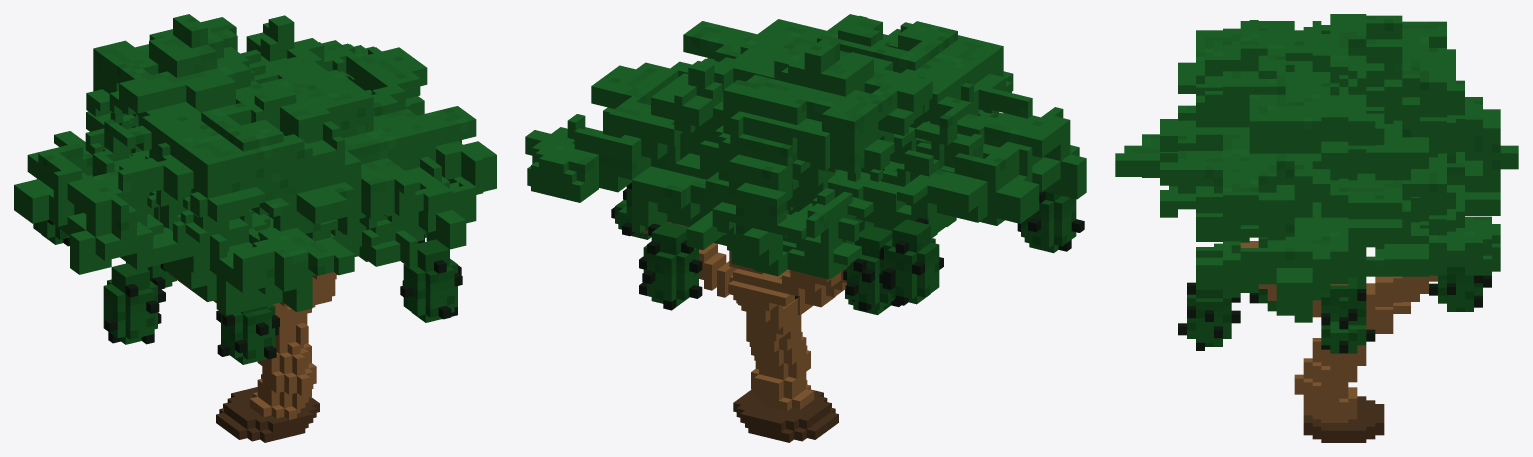
File: 2_1 grav.obj
The picture shows the model from 3 angles, left to right: view 1: azimuth 30°, elevation 25°; view 2: azimuth 150°, elevation 25°; view 3: azimuth 270°, elevation 25°; orthographic projection. The views are drawn at different scales.
Size of the model in its own units: 5.4 by 4.7 by 4.5.
1 material, 1 textured.
